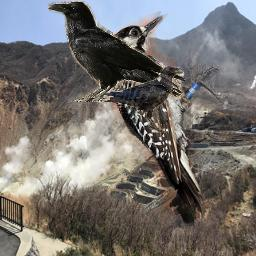Crow: (48, 1, 185, 102), (103, 66, 184, 133)
Woodpecker: (95, 8, 236, 226)
